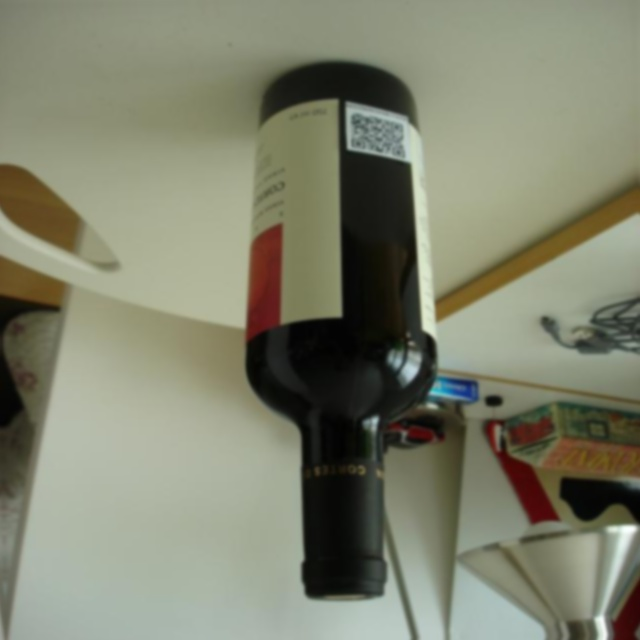qr-code: (352, 112, 404, 159)
